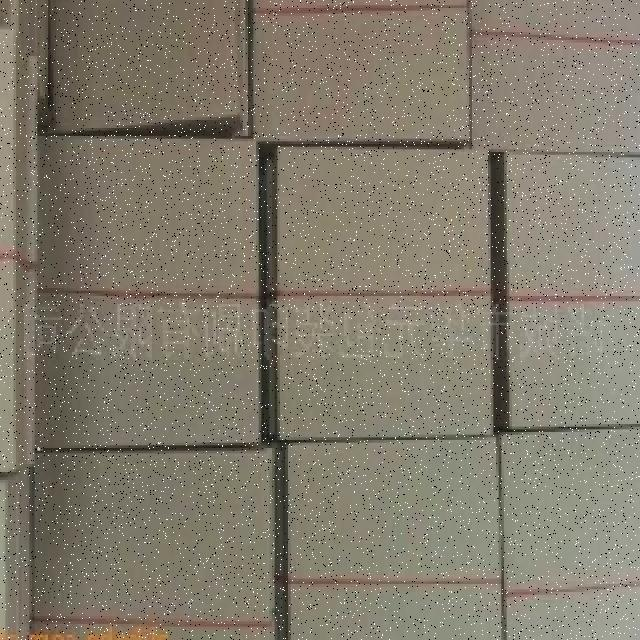box: (25, 136, 260, 456), (272, 151, 495, 446), (27, 448, 276, 621), (499, 151, 640, 429), (282, 429, 501, 583), (249, 0, 475, 141), (40, 0, 245, 131), (467, 0, 640, 149), (496, 432, 640, 595), (286, 584, 502, 640), (504, 581, 640, 640), (32, 621, 288, 640)
